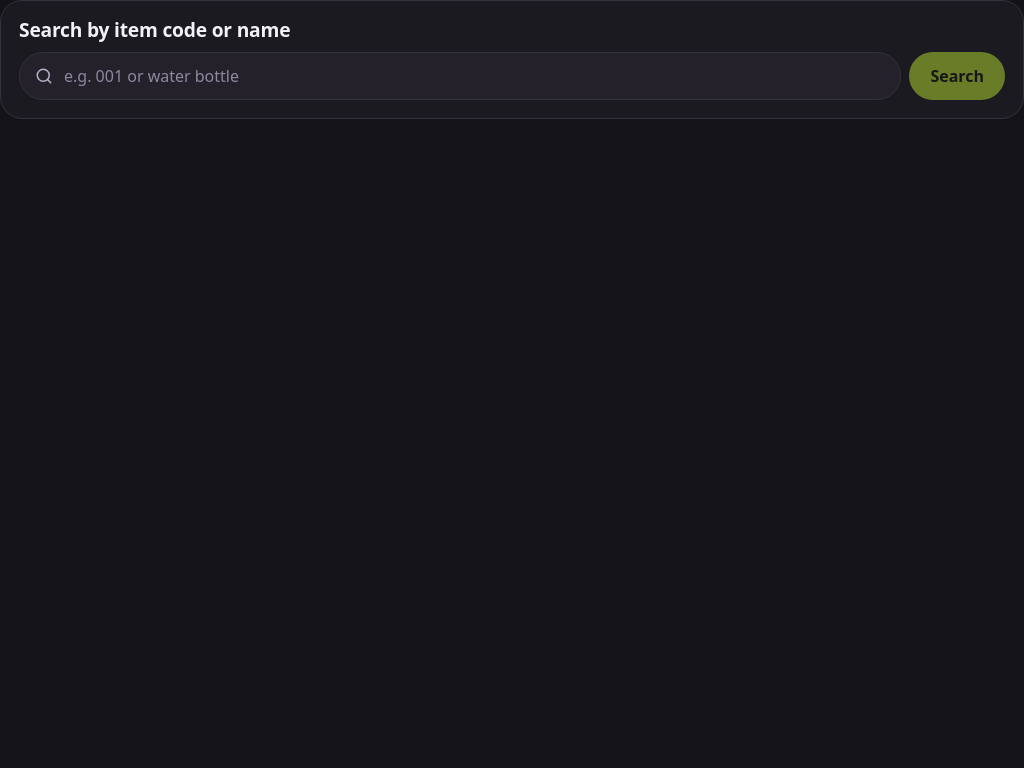
Test: B-12: if the item list failed to load, a code is looked up on the server and errors are real
This screenshot has width=1024, height=768.
Type "1" into the search field named "Item code or name". click: (460, 76)
box: [19,52,901,100]
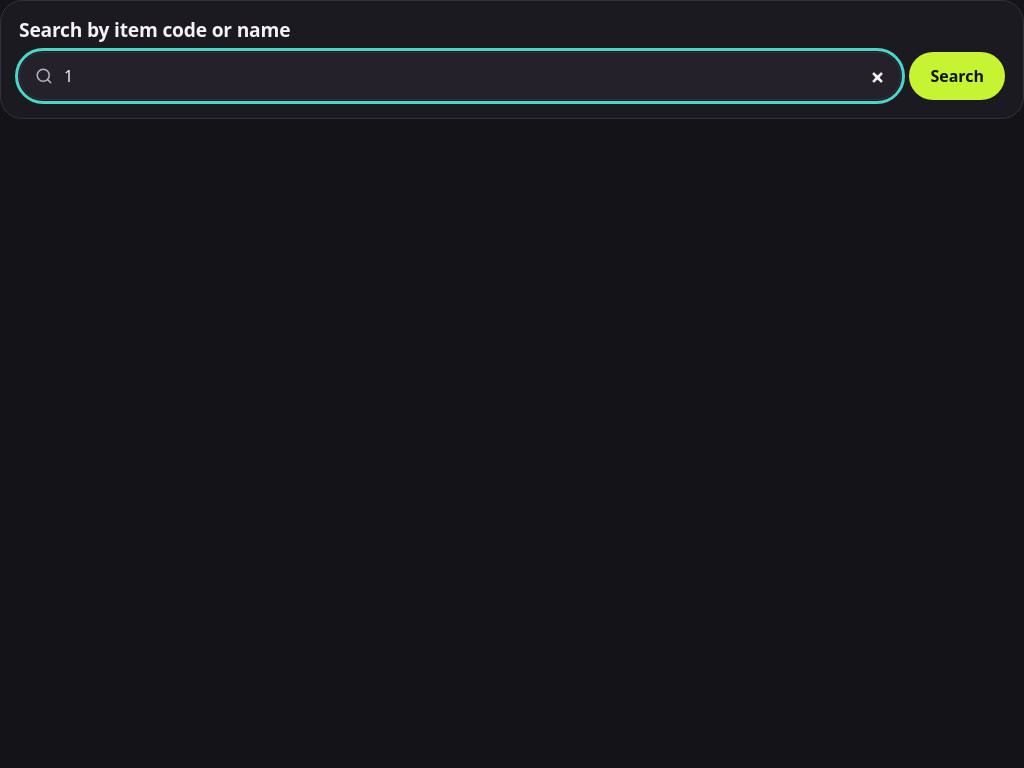
Click the button "Search". click: (957, 76)
box: [909,52,1005,100]
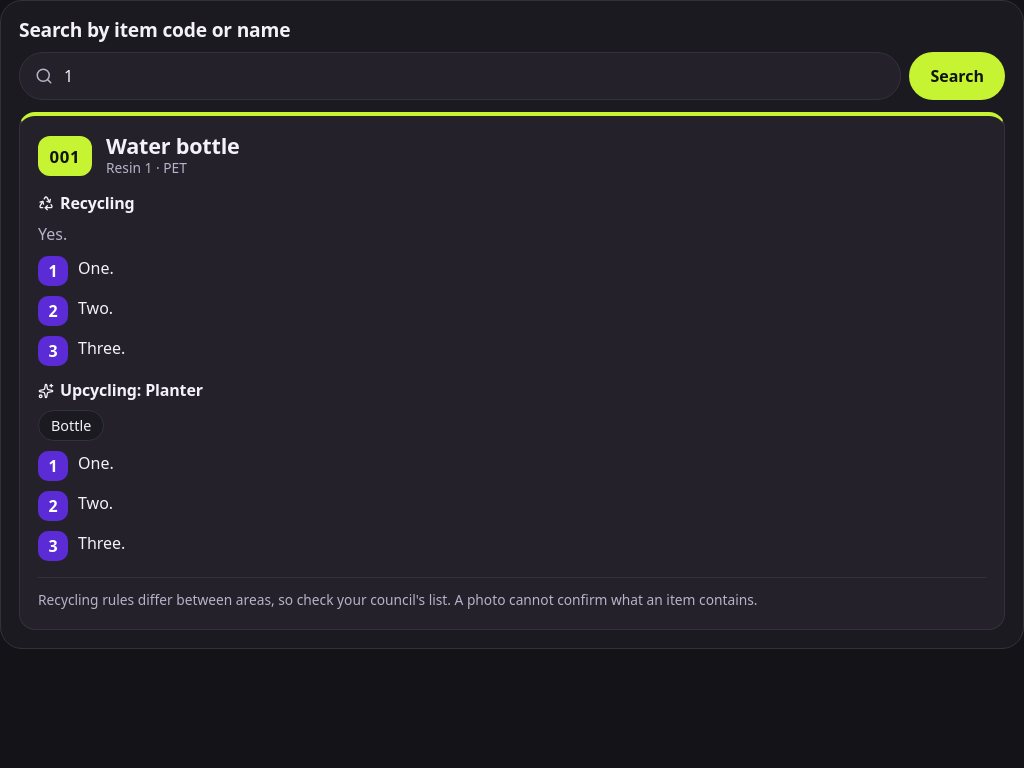
Check: the heading "Water bottle" is shown, box [106,134,240,158]
Replace the text in the search field named "Item code or name" with "002". click: (460, 76)
box: [19,52,901,100]
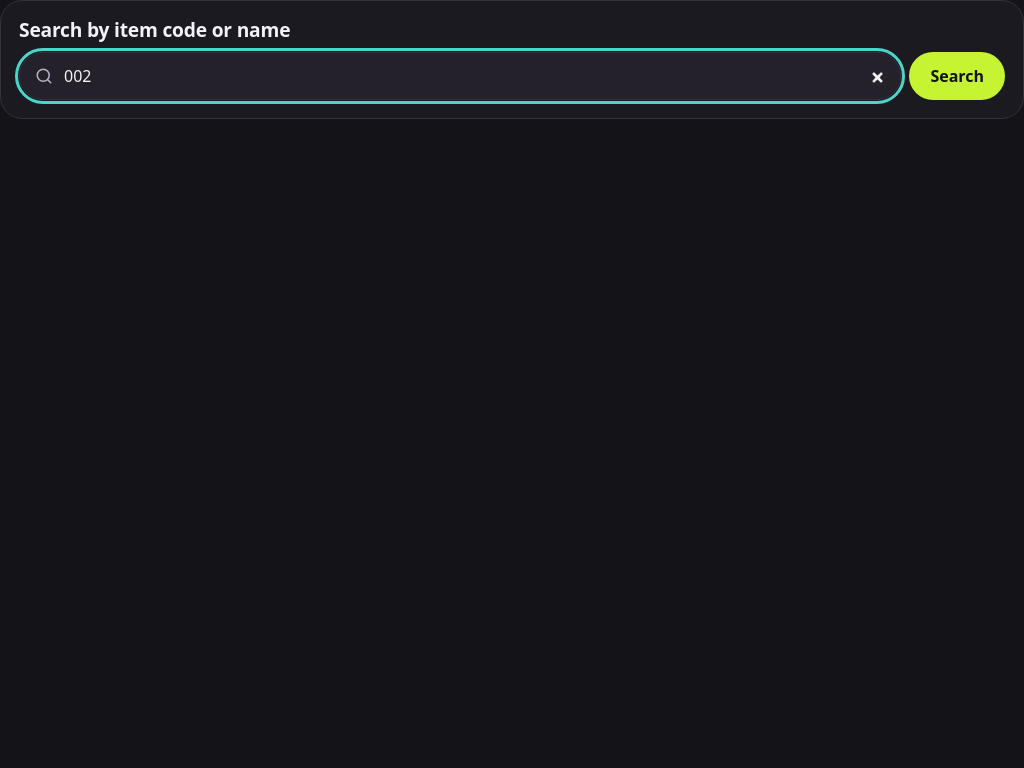
Click the button "Search". click: (957, 76)
box: [909,52,1005,100]
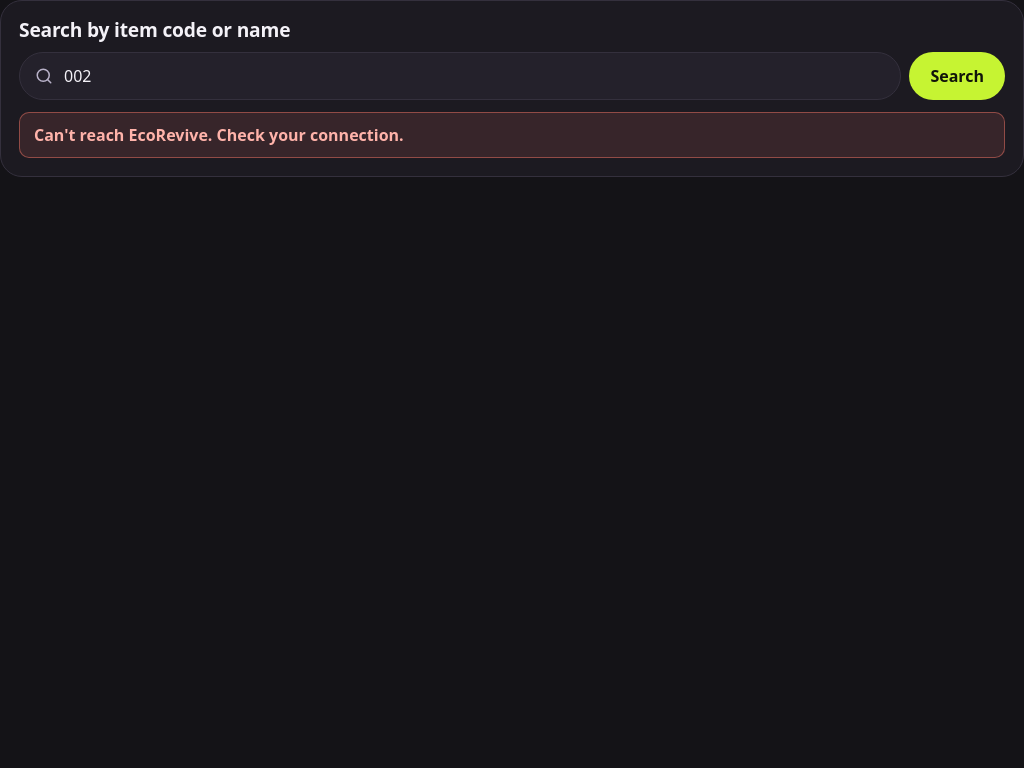
Check: the text "Can't reach EcoRevive. Check your connection." is shown, box [19,112,1005,158]
